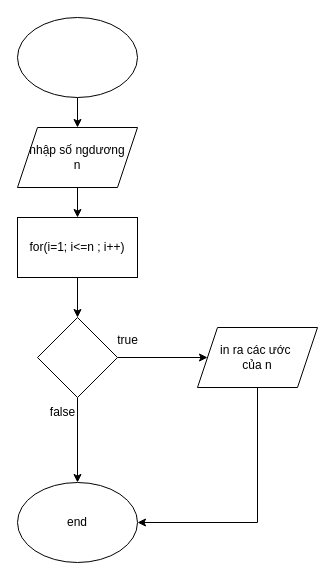
Some shapes in this 335 by 580 pixel diagram are drawn without their labels. Each missing label, with the centre of its shape:
n % i == 0: point 77,357
start: point 77,57
